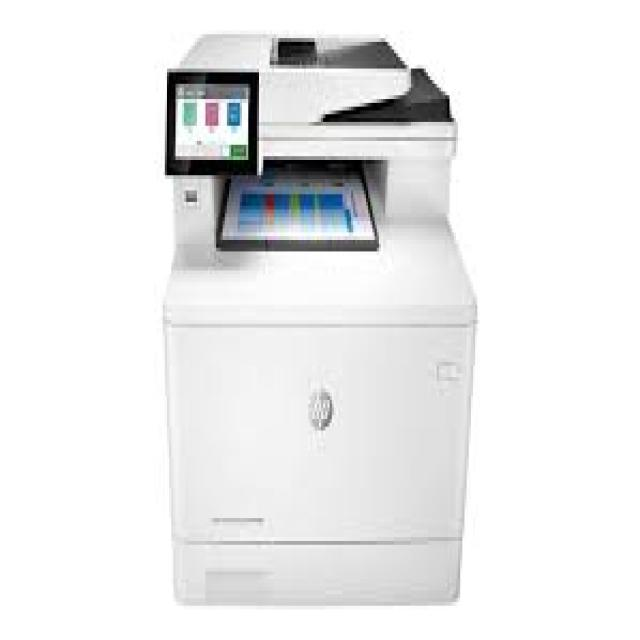printer: (160, 31, 478, 606)
